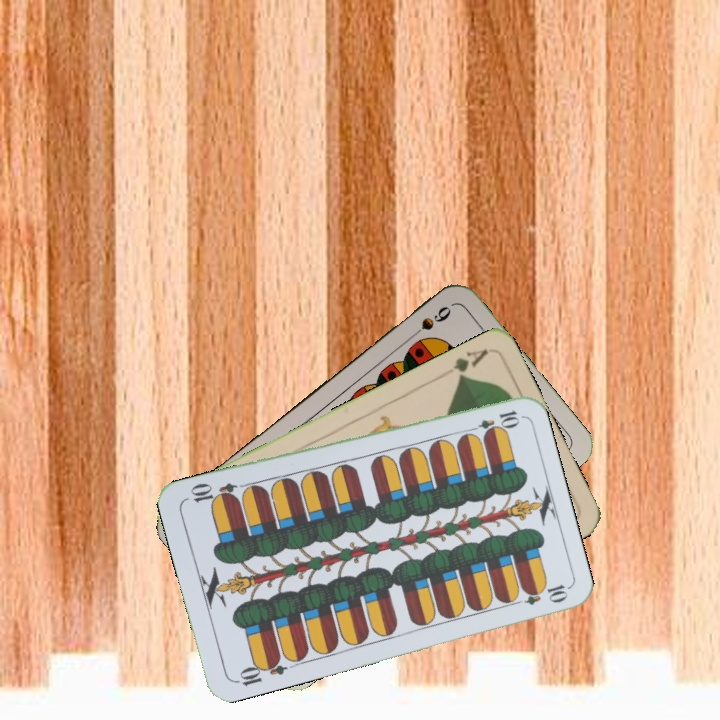E10: (231, 652, 289, 689), (463, 406, 522, 437)
GA: (448, 344, 492, 383)
S9: (403, 302, 454, 343)
